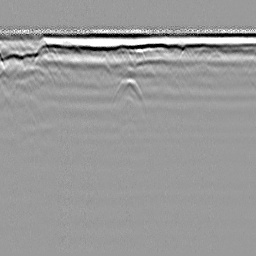cavity: (112, 76, 145, 103)
